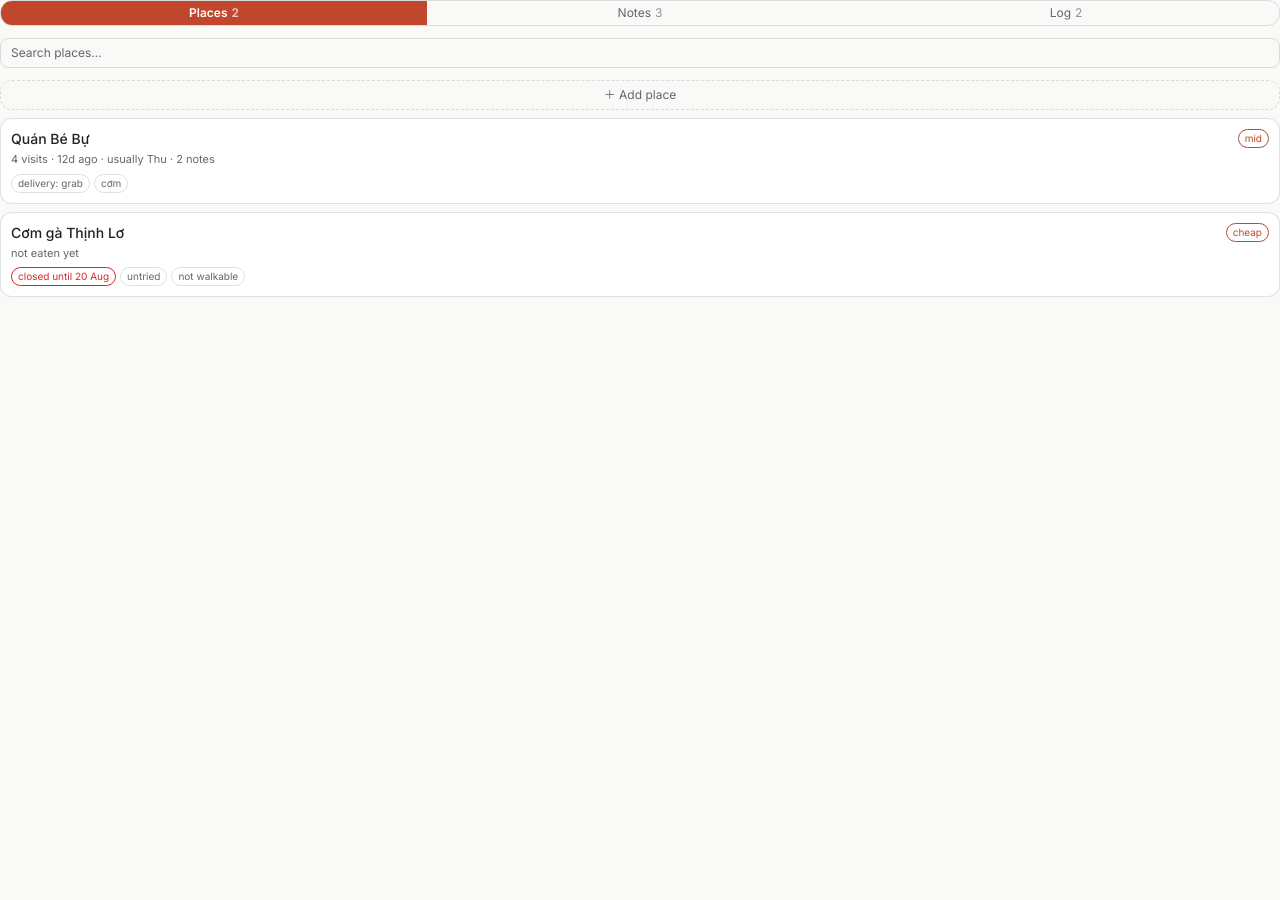
Test: KnowledgePanel — places › opens the editor when a place is tapped
Click the text "Quán Bé Bự". click: (50, 138)
box: left=11, top=130, right=90, bottom=147
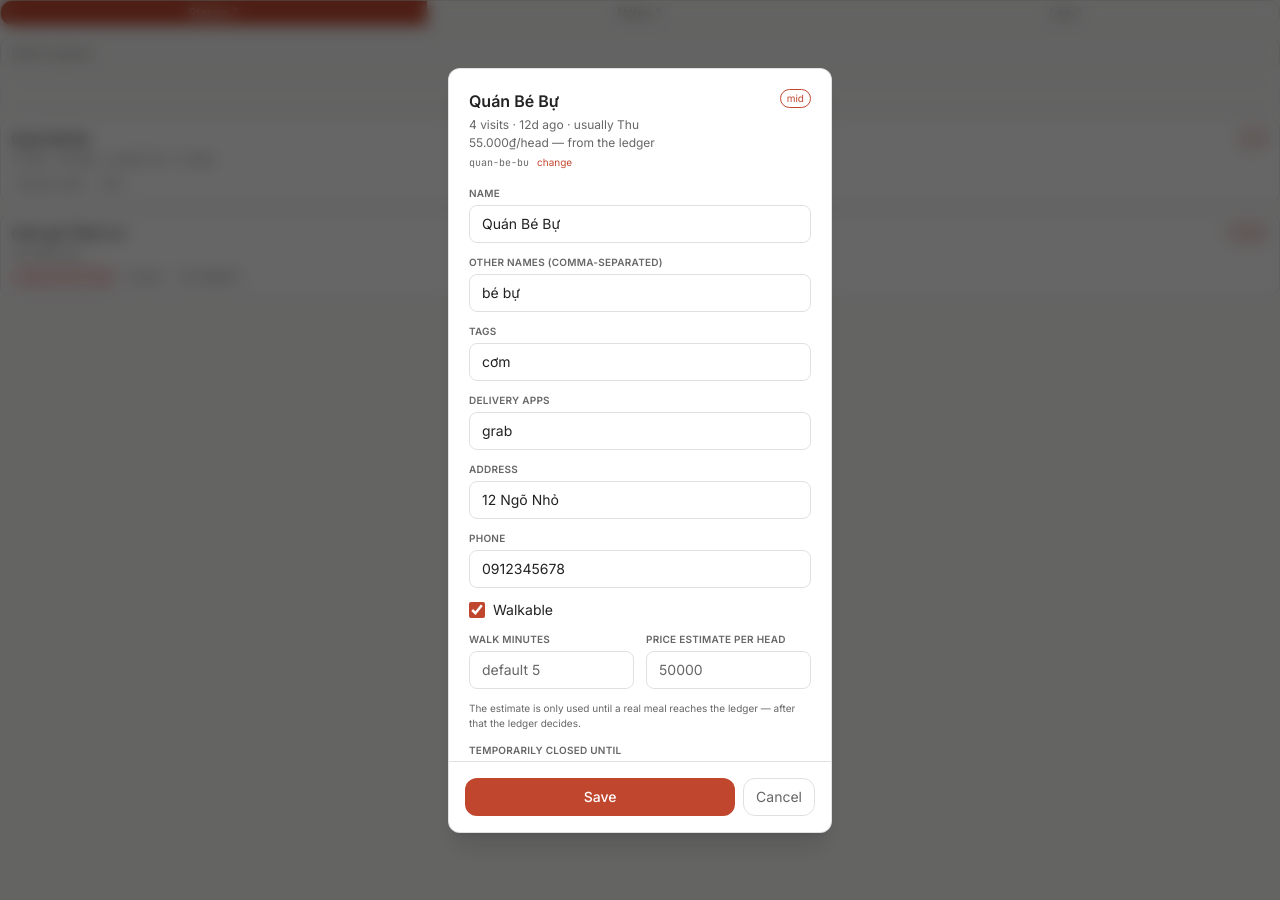
Check: the dialog named "Edit Quán Bé Bự" is shown
